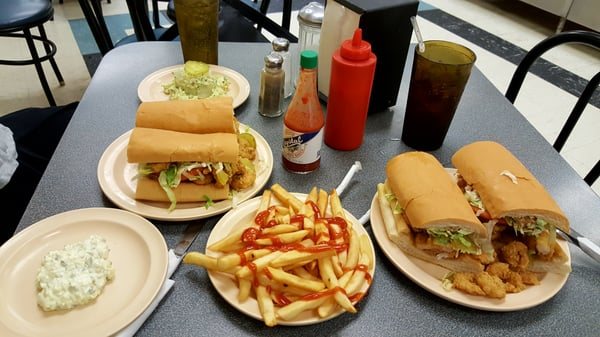soup: (124, 95, 256, 208), (381, 150, 495, 265)
sushi: (136, 62, 251, 111)
